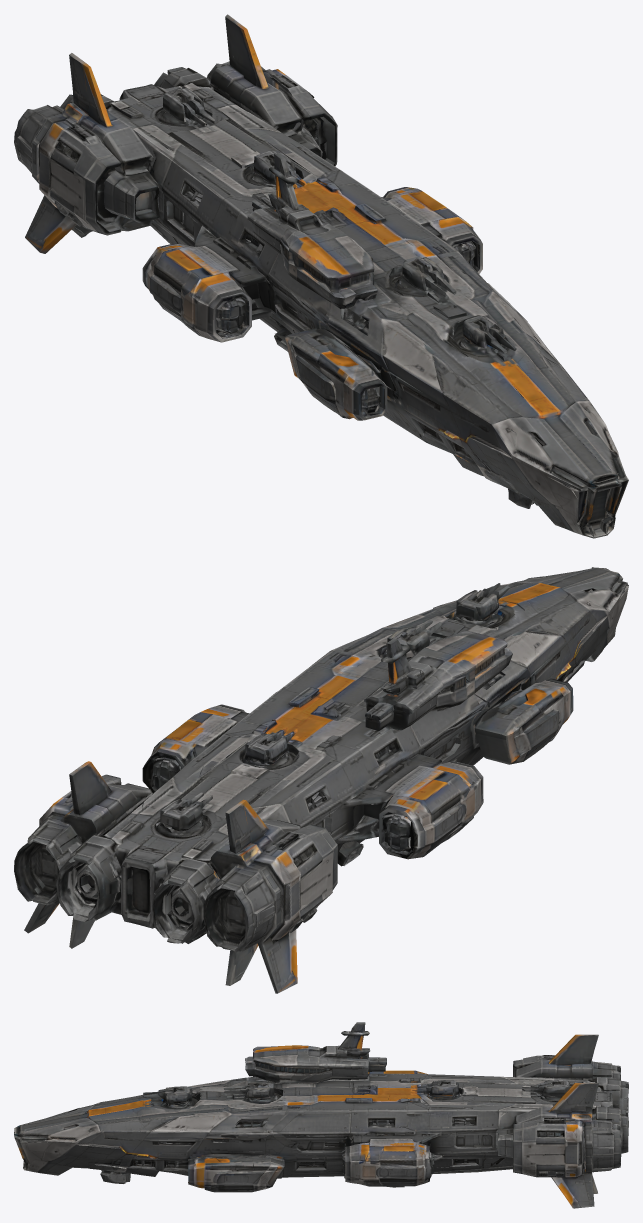
The model's file is frigate-very-high.glb.
3 renders of one model, top to bottom at view 1: azimuth 30°, elevation 25°; view 2: azimuth 150°, elevation 25°; view 3: azimuth 270°, elevation 25°, orthographic. The views are drawn at different scales.
Parts seen in each view (by area): view 1: Low; view 2: Low; view 3: Low.
Part boxes in pixels (x1,y1,x2,y2): Low: (14, 14, 628, 538); Low: (14, 567, 628, 993); Low: (14, 1022, 628, 1208).
Bounding box in the file's own units: 0.6496 × 0.4915 × 1.91.
1 material, 1 textured.
